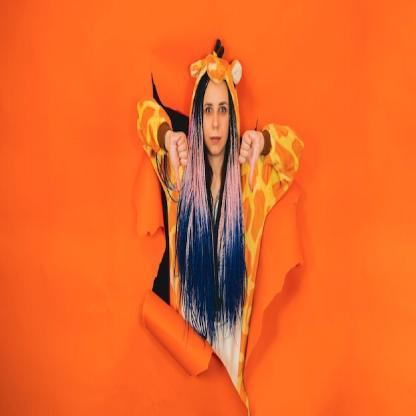thumb_down: (238, 125, 263, 195), (166, 128, 190, 196)
